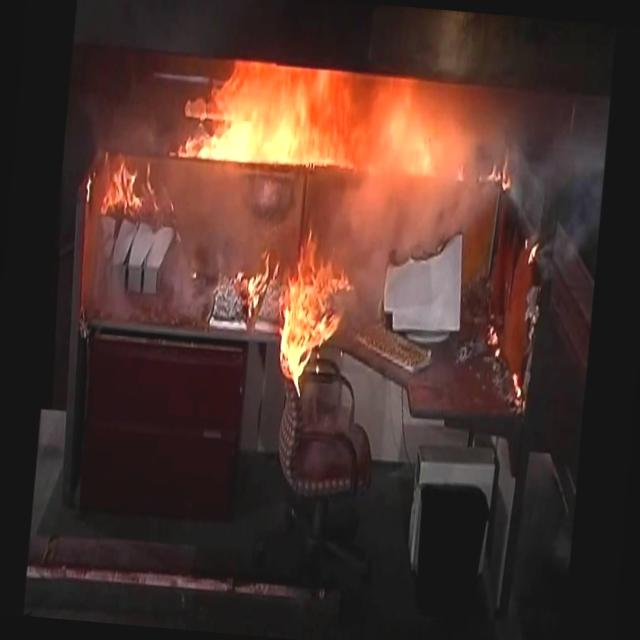fire: (193, 61, 457, 210), (268, 238, 350, 384)
